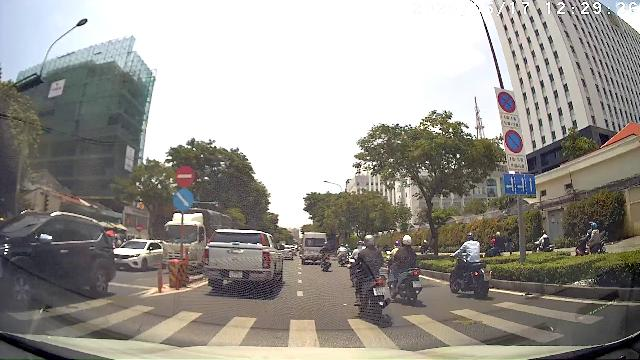102-cam-di-nguoc-chieu: (176, 165, 194, 187)
130-cam-dung-va-do-xe: (498, 90, 516, 114)
131a-cam-do-xe: (504, 129, 524, 153)
302a-huong-phai-di-vong-chuong-ngai-vat-1: (172, 188, 194, 210)
